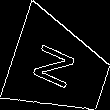N_E: (33, 41, 86, 96)
